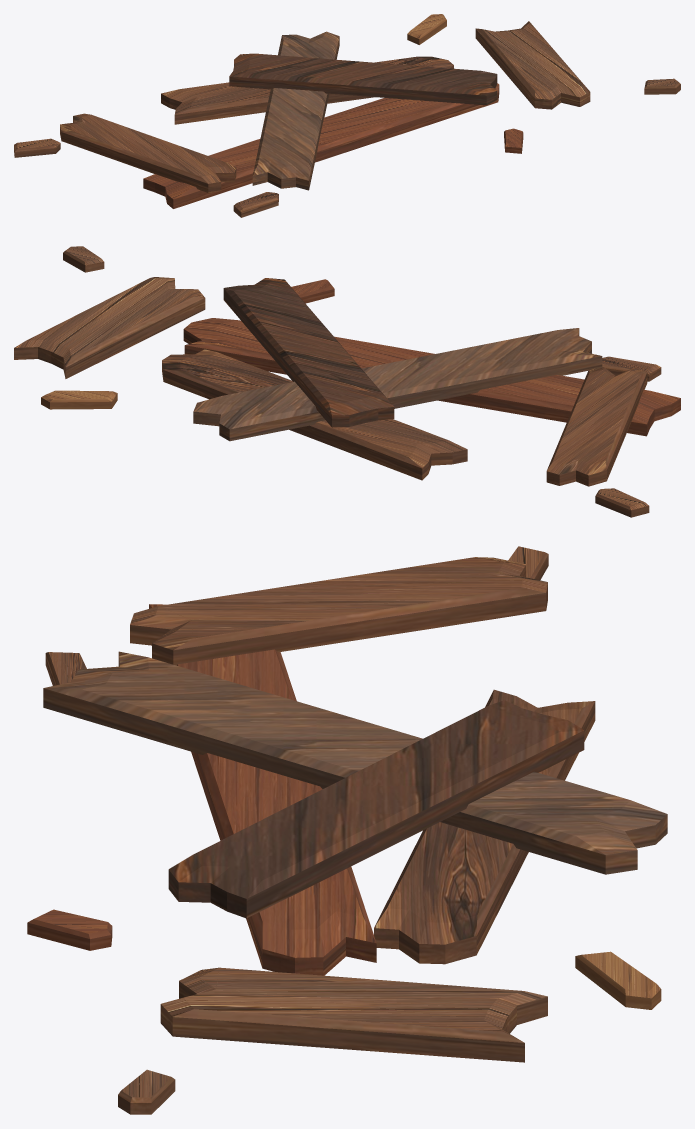
The model's file is junk_rubble_wood.glb.
The picture shows the model from 3 angles, top to bottom: view 1: azimuth 30°, elevation 25°; view 2: azimuth 150°, elevation 25°; view 3: azimuth 270°, elevation 25°; orthographic projection. The views are drawn at different scales.
Visible parts, largest first — view 1: model; view 2: model; view 3: model.
Boxes of the visible parts, bbox=[...] form: model: bbox=[14, 14, 680, 217]; model: bbox=[14, 246, 680, 517]; model: bbox=[27, 546, 667, 1114].
Bounding box in the file's own units: 1.37 × 0.082 × 0.6662.
Materials: 8 (8 with a texture image).
